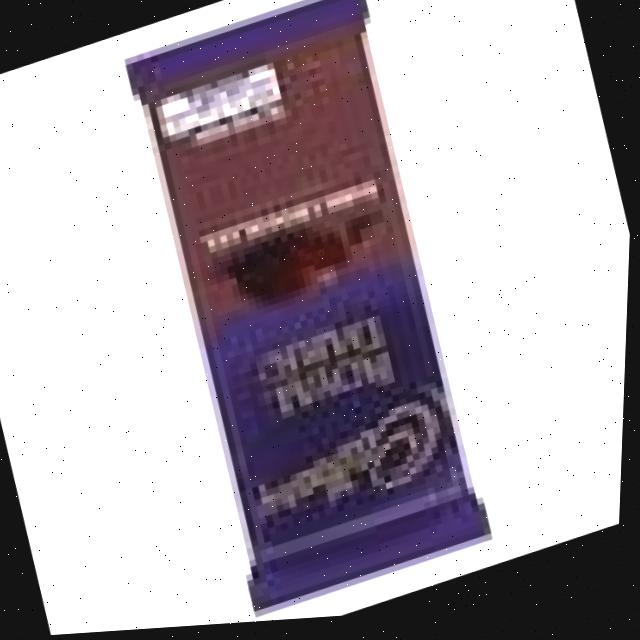cadbury: (132, 29, 491, 595)
